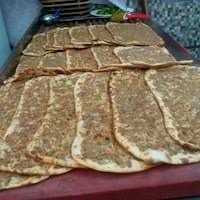lahmacun: (0, 66, 199, 187)
